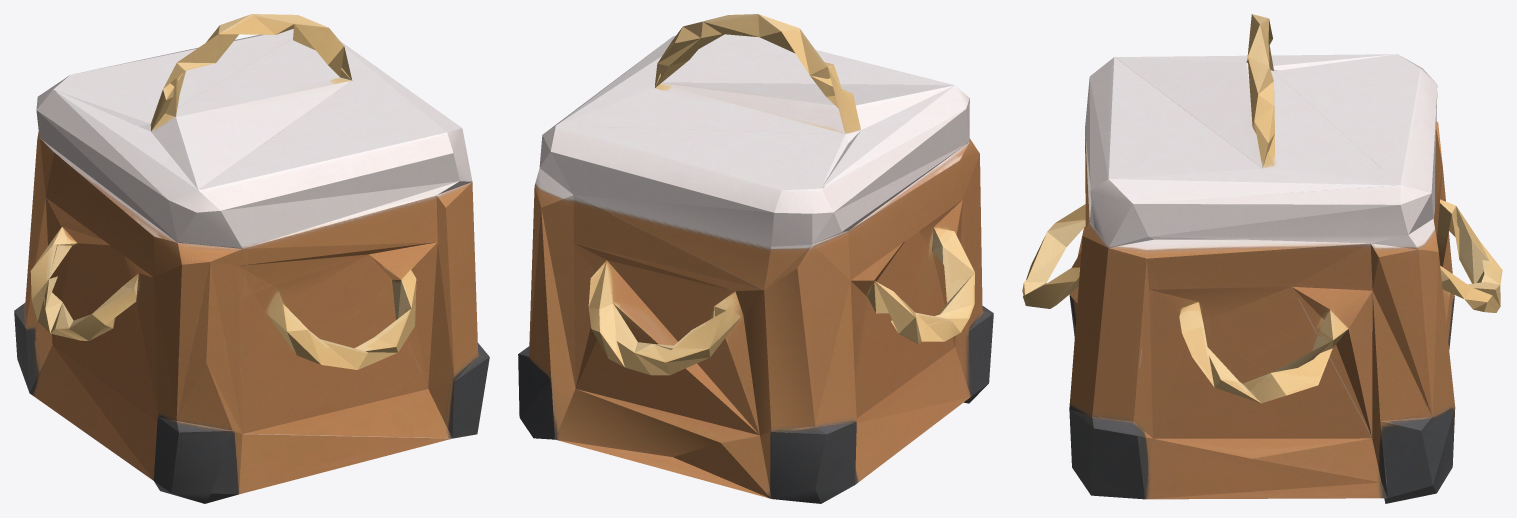
File: meshy.glb
3 views of the same model, side by side, from view 1: azimuth 30°, elevation 25°; view 2: azimuth 150°, elevation 25°; view 3: azimuth 270°, elevation 25° (orthographic).
Bounding box in the file's own units: 1.89 × 1.75 × 1.88.
1 material, 1 textured.
